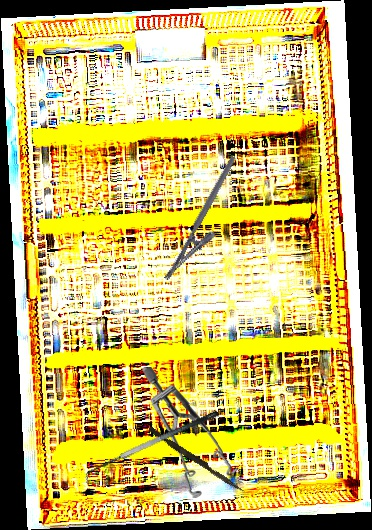Needle Holder: (163, 155, 253, 290)
Pusher: (146, 426, 248, 494)
Spatula Surgical: (80, 409, 224, 486)
Speculum: (137, 366, 242, 500)
